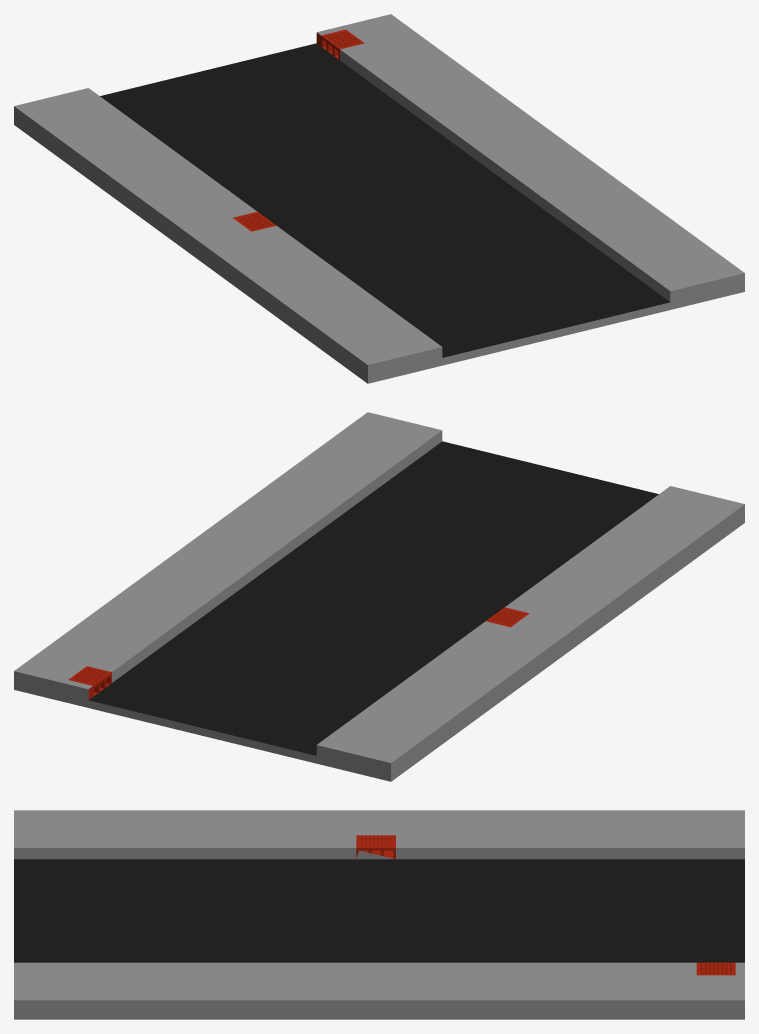
Rendered from weg.fbx.
3 views of the same model, one above another, from view 1: azimuth 30°, elevation 25°; view 2: azimuth 150°, elevation 25°; view 3: azimuth 270°, elevation 25° (orthographic). The views are drawn at different scales.
Visible parts, largest first — view 1: pCube11; view 2: pCube11; view 3: pCube11.
Part boxes in pixels (bbox=[...]): pCube11: bbox=[14, 14, 744, 383]; pCube11: bbox=[14, 412, 744, 781]; pCube11: bbox=[14, 810, 744, 1019].
Bounding box in the file's own units: 50.41 × 2.39 × 81.93.
Materials: 1 (1 with a texture image).
